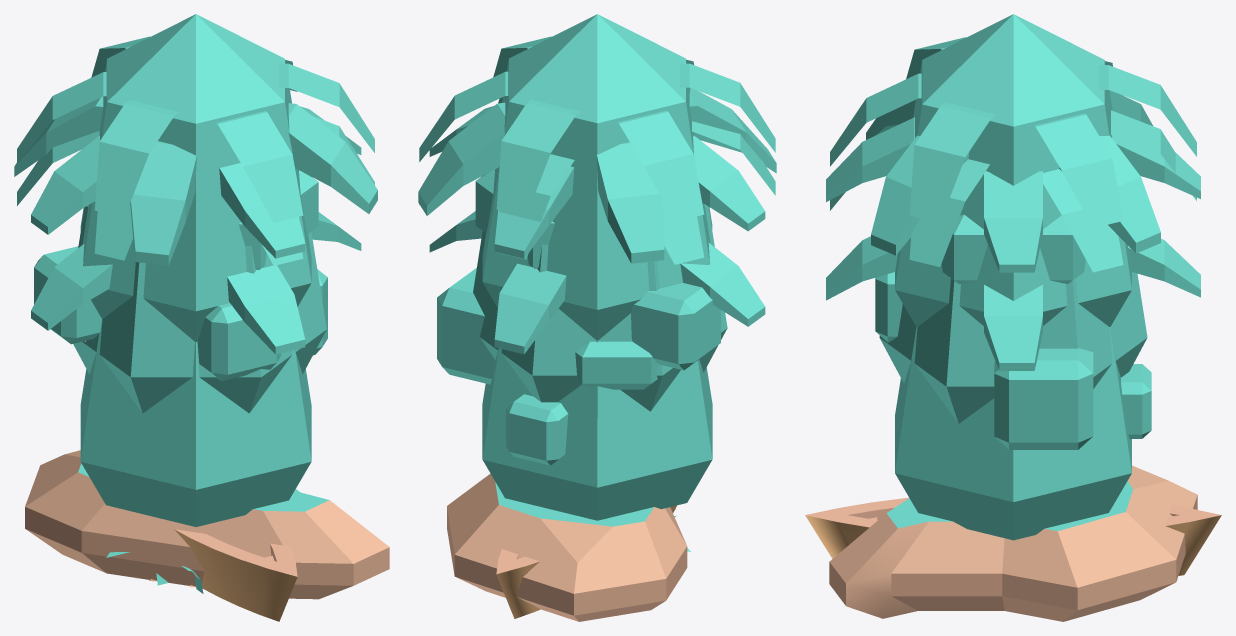
Rendered from nature.glb.
The picture shows the model from 3 angles, left to right: view 1: azimuth 30°, elevation 25°; view 2: azimuth 150°, elevation 25°; view 3: azimuth 270°, elevation 25°; orthographic projection. The views are drawn at different scales.
Parts seen in each view (by area): view 1: tree_default, tree_fat, rock_largeA, leafs (×2), tree_oak, tree_palmShort, tree_palm, tree_palm__lod, tree_detailed, canoe, tree_palmTall, tree_palmBend (+2 smaller); view 2: tree_default, tree_fat, rock_largeA, leafs (×2), tree_detailed, tree_palm, tree_palmShort, tree_oak, tree_plateau, tree_palm__lod, tree_palmBend, tree_palmTall (+2 smaller); view 3: rock_largeA, tree_default, tree_fat, tree_oak, leafs (×2), tree_detailed, tree_palm, tree_palmShort, tree_palmBend, tree_palm__lod, tree_palmTall, canoe (+1 smaller).
Part boxes in pixels (x1,y1,x2,y2): tree_default: [80, 14, 311, 341]; tree_fat: [80, 319, 311, 526]; rock_largeA: [25, 450, 389, 599]; leafs (×2): [14, 96, 377, 265]; tree_oak: [73, 205, 326, 587]; tree_palmShort: [31, 212, 361, 354]; tree_palm: [17, 36, 374, 222]; tree_palm__lod: [52, 48, 371, 209]; tree_detailed: [34, 246, 327, 381]; canoe: [174, 529, 297, 621]; tree_palmTall: [45, 106, 324, 234]; tree_palmBend: [17, 116, 374, 265]; tree_default: [482, 14, 712, 340]; tree_fat: [482, 340, 712, 520]; rock_largeA: [447, 473, 687, 621]; leafs (×2): [418, 88, 776, 263]; tree_detailed: [437, 268, 720, 465]; tree_palm: [419, 36, 775, 221]; tree_palmShort: [429, 211, 765, 354]; tree_oak: [473, 204, 727, 411]; tree_plateau: [475, 169, 657, 389]; tree_palm__lod: [424, 37, 775, 165]; tree_palmBend: [419, 97, 775, 264]; tree_palmTall: [429, 106, 748, 258]; rock_largeA: [829, 465, 1197, 621]; tree_default: [895, 14, 1131, 326]; tree_fat: [895, 327, 1131, 540]; tree_oak: [879, 272, 1147, 423]; leafs (×2): [826, 90, 1200, 272]; tree_detailed: [875, 272, 1151, 449]; tree_palm: [830, 47, 1196, 228]; tree_palmShort: [826, 236, 1200, 370]; tree_palmBend: [830, 110, 1196, 272]; tree_palm__lod: [866, 37, 1108, 219]; tree_palmTall: [826, 117, 1178, 271]; canoe: [805, 497, 1221, 575].
Size of the model in its own units: 1.03 by 1.71 by 1.15.
